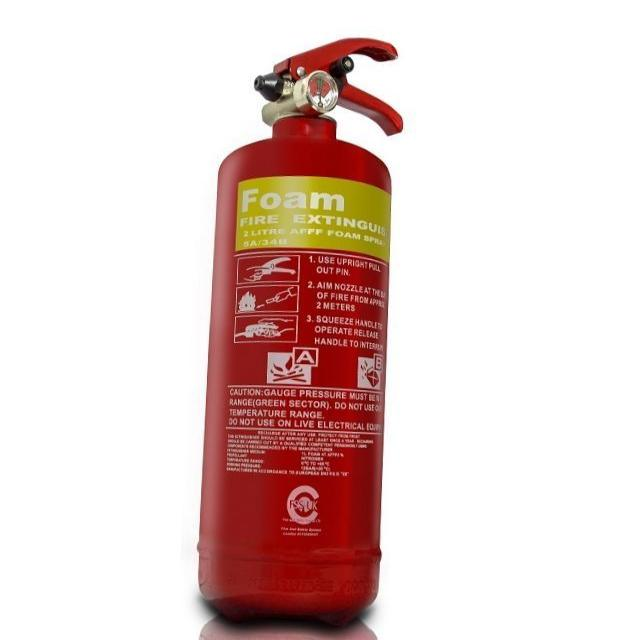fire_extinguisher: (182, 31, 411, 634)
